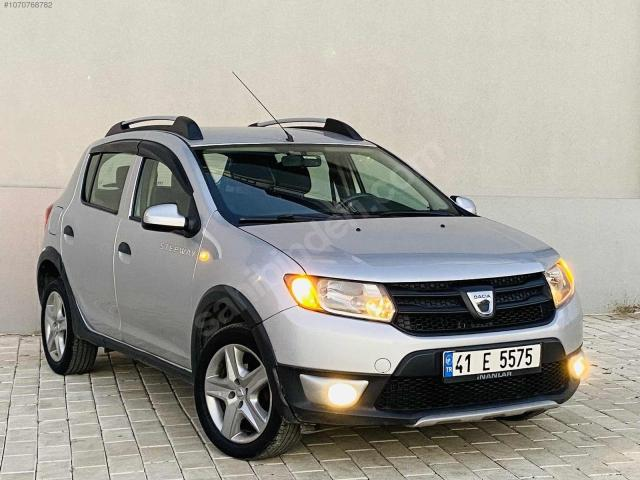plaka: (443, 344, 540, 378)
